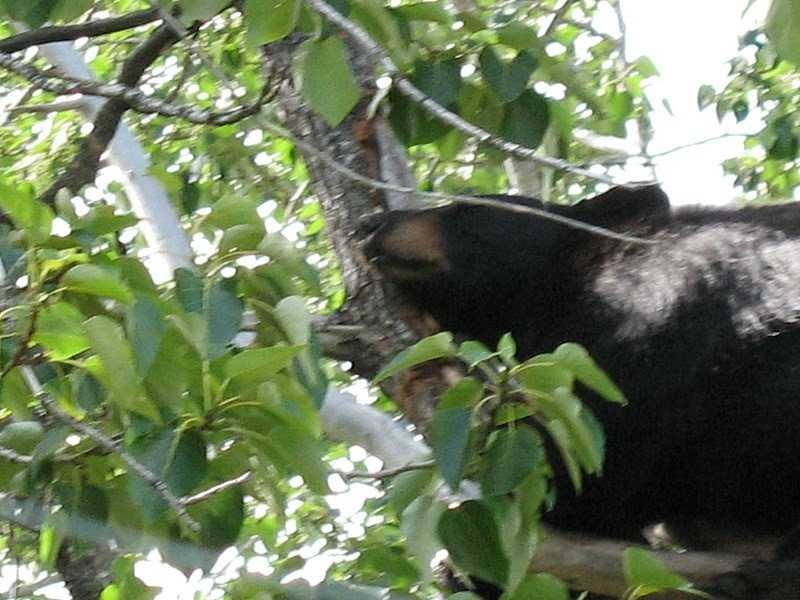bear: (345, 190, 473, 318), (557, 161, 685, 289)
